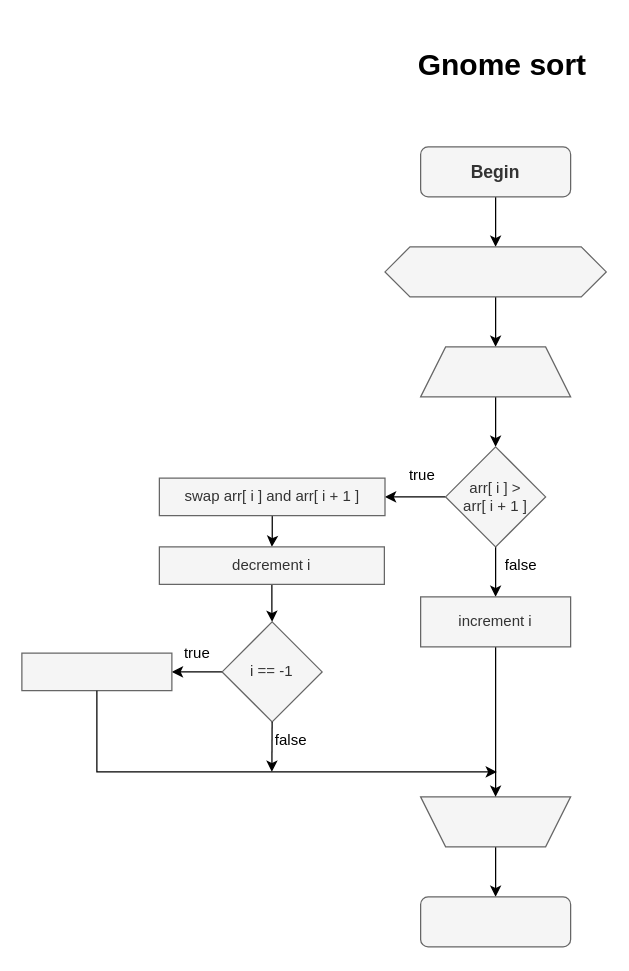
Some shapes in this 629 by 971 pixel diagram are drawn without their labels. The box of each missing label's shape, as (x1, y1, x2, y2) in pixels:
End: (419, 896, 571, 947)
i = 0: (21, 652, 172, 691)
i = 0; i < arr.length - 1;: (384, 246, 606, 297)
